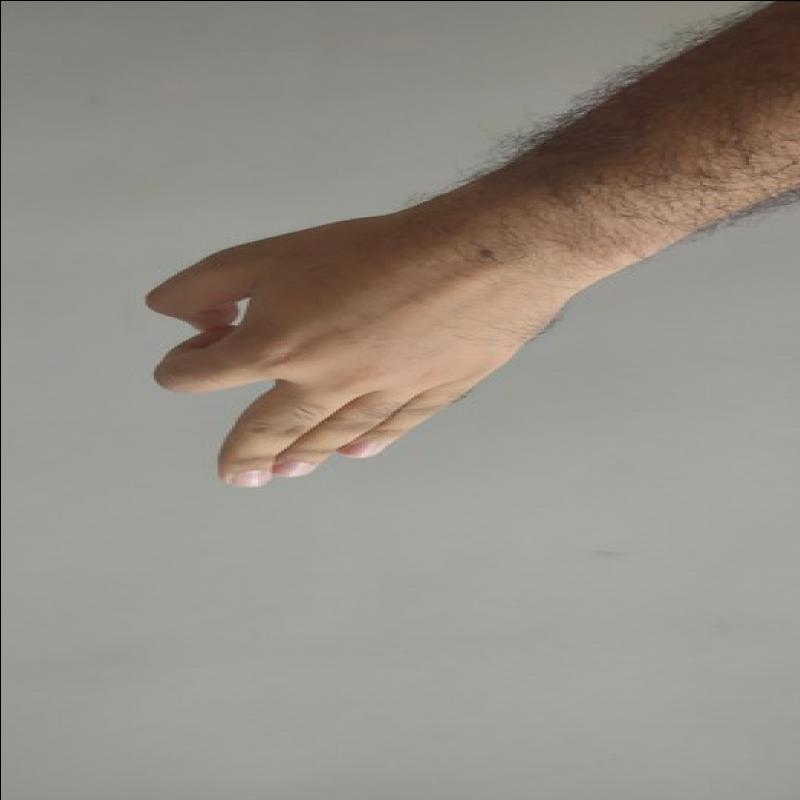Mudraakhyam: (128, 209, 544, 555)
